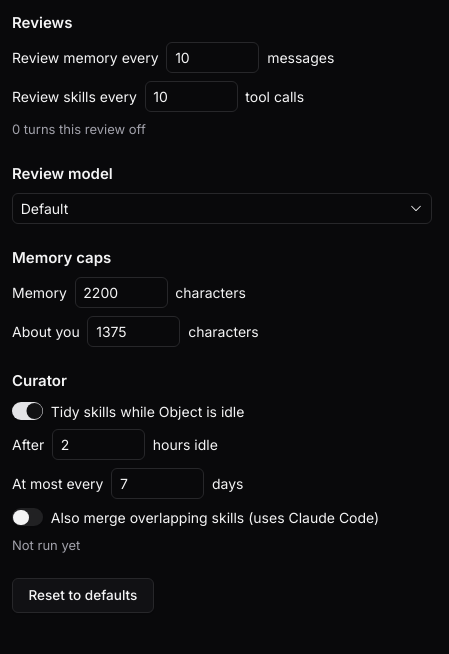
Test: LearningTab › test Learning saves a number and shows the 422 message
Expected: the heading "Reviews" is shown, x1=12 y1=13 x2=72 y2=32
Expected: the text "Not run yet" is shown, x1=12 y1=536 x2=80 y2=552
Replace the text in the number field labelled "Memory characters" with "3000" at (121, 293), box x1=75 y1=277 x2=168 y2=308
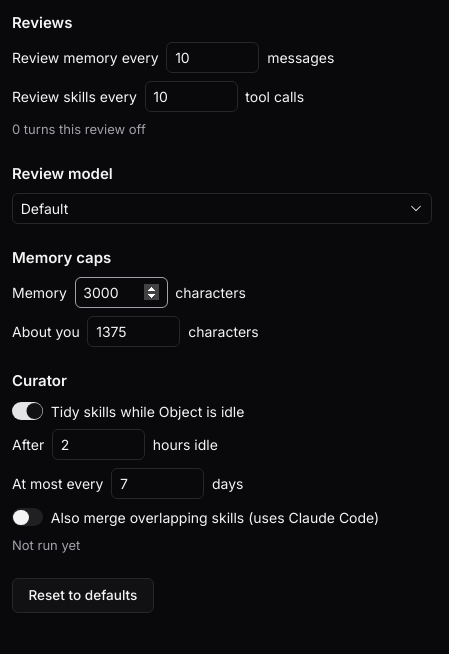
Press Tab
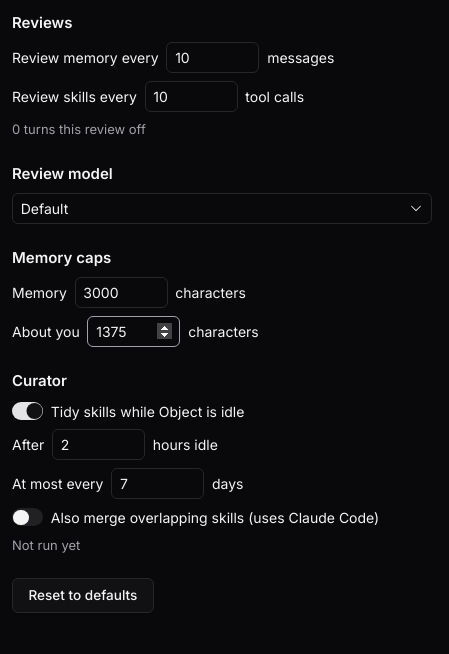
Replace the text in the number field labelled "Memory characters" with "50" at (121, 293), box x1=75 y1=277 x2=168 y2=308
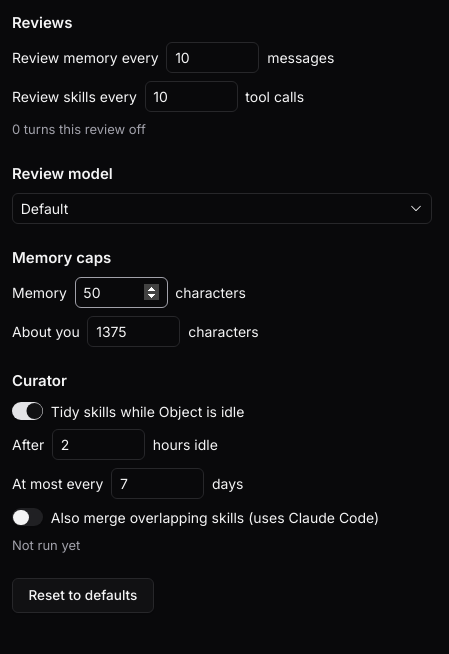
Press Enter
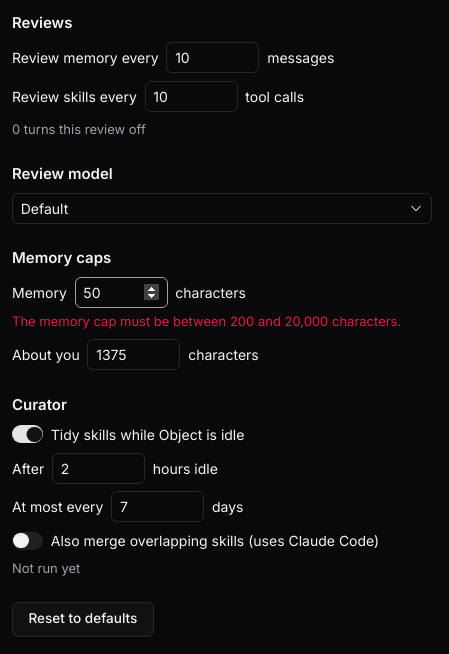
Expected: the message reads "The memory cap must be between 200 and 20,000 characters.", x1=12 y1=313 x2=401 y2=329
